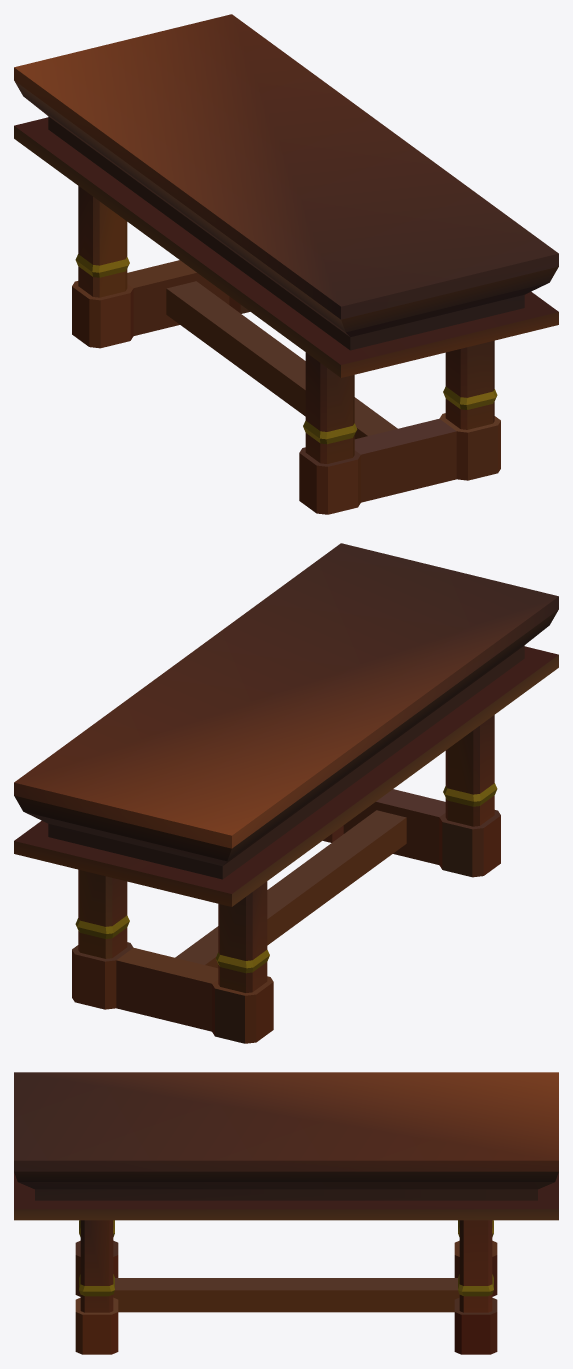
Rendered from Furniture_BenchBShort.fbx.
The picture shows the model from 3 angles, top to bottom: view 1: azimuth 30°, elevation 25°; view 2: azimuth 150°, elevation 25°; view 3: azimuth 270°, elevation 25°; orthographic projection. The views are drawn at different scales.
Visible parts, largest first — view 1: Furniture_BenchBShort; view 2: Furniture_BenchBShort; view 3: Furniture_BenchBShort.
Part boxes in pixels (<box>): Furniture_BenchBShort: <box>14,14,558,514</box>; Furniture_BenchBShort: <box>14,543,558,1043</box>; Furniture_BenchBShort: <box>14,1072,558,1354</box>.
Bounding box in the file's own units: 50 × 52.85 × 130.
